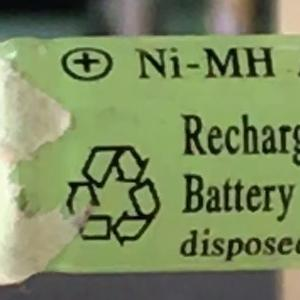keyword: (126, 38, 279, 88)
